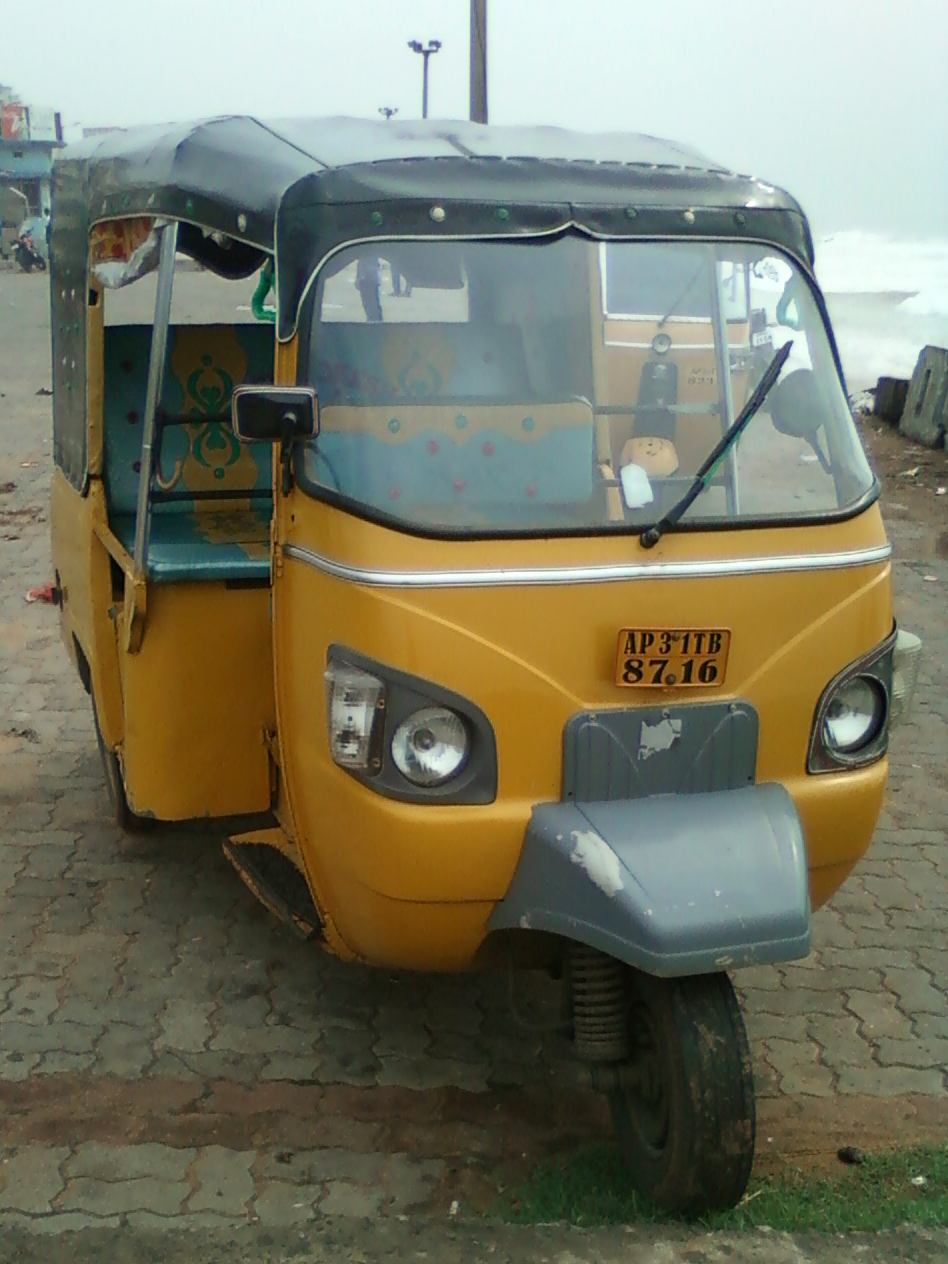auto: (37, 98, 937, 1222)
numberplate: (609, 619, 749, 699)
